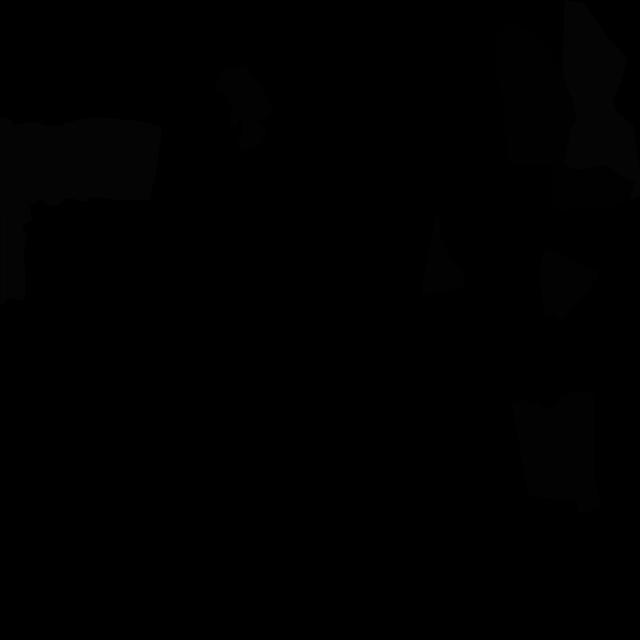cardboard: (511, 389, 600, 513), (214, 64, 275, 152), (539, 248, 599, 323), (421, 211, 464, 295)
rigid_plastic: (495, 25, 634, 212)
soft_plastic: (562, 0, 640, 201), (14, 117, 162, 207), (0, 117, 32, 305)
